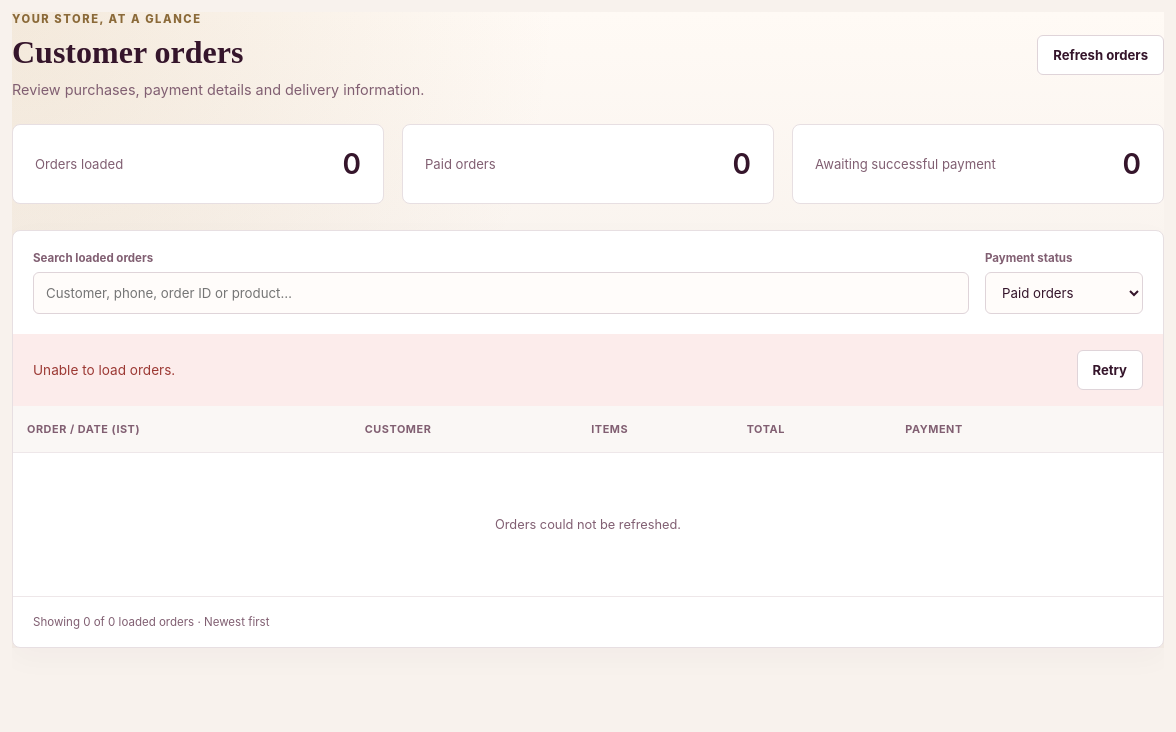
Test case: AdminOrdersComponent › shows load errors and allows a retry
Expected: the message "Unable to load orders. Retry" is shown, [13,334,1163,406]
Click the button "Retry".
click(1110, 370)  # box [1076,350,1143,390]
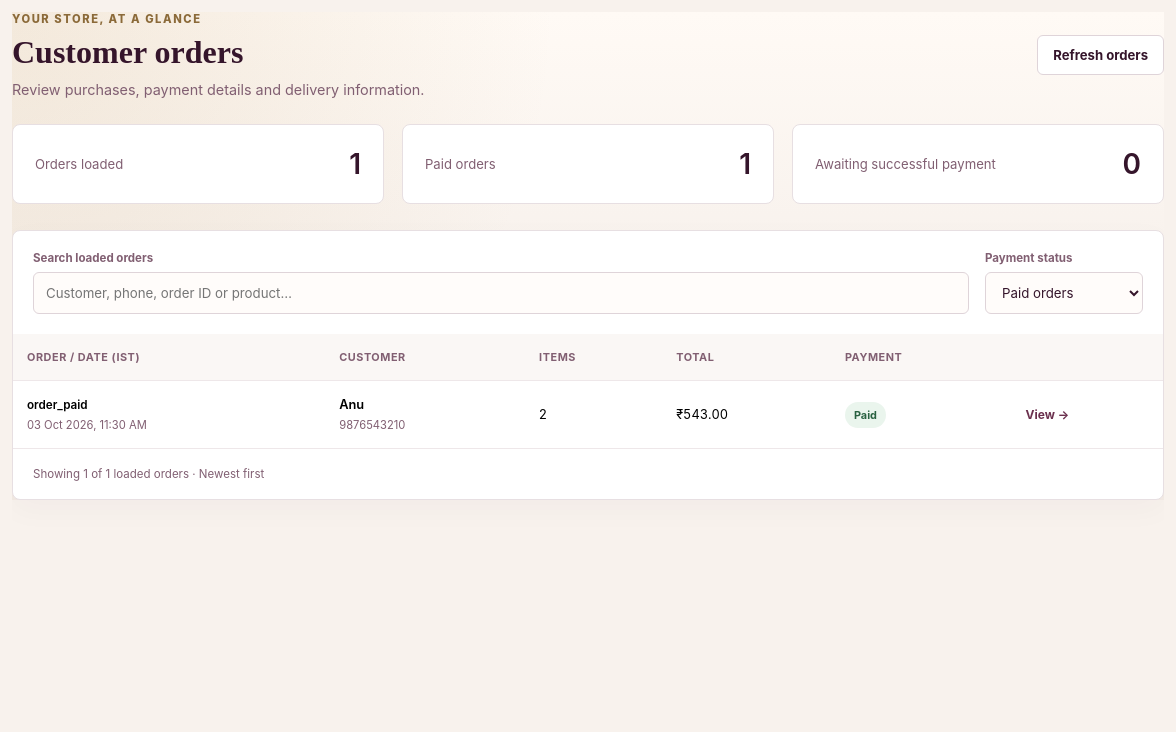
Now the message "Unable to load orders. Retry" is gone
Now the table shows "order_paid", box [27,398,88,412]
